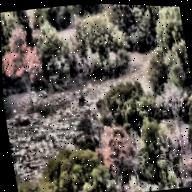boar: (74, 92, 87, 112)
